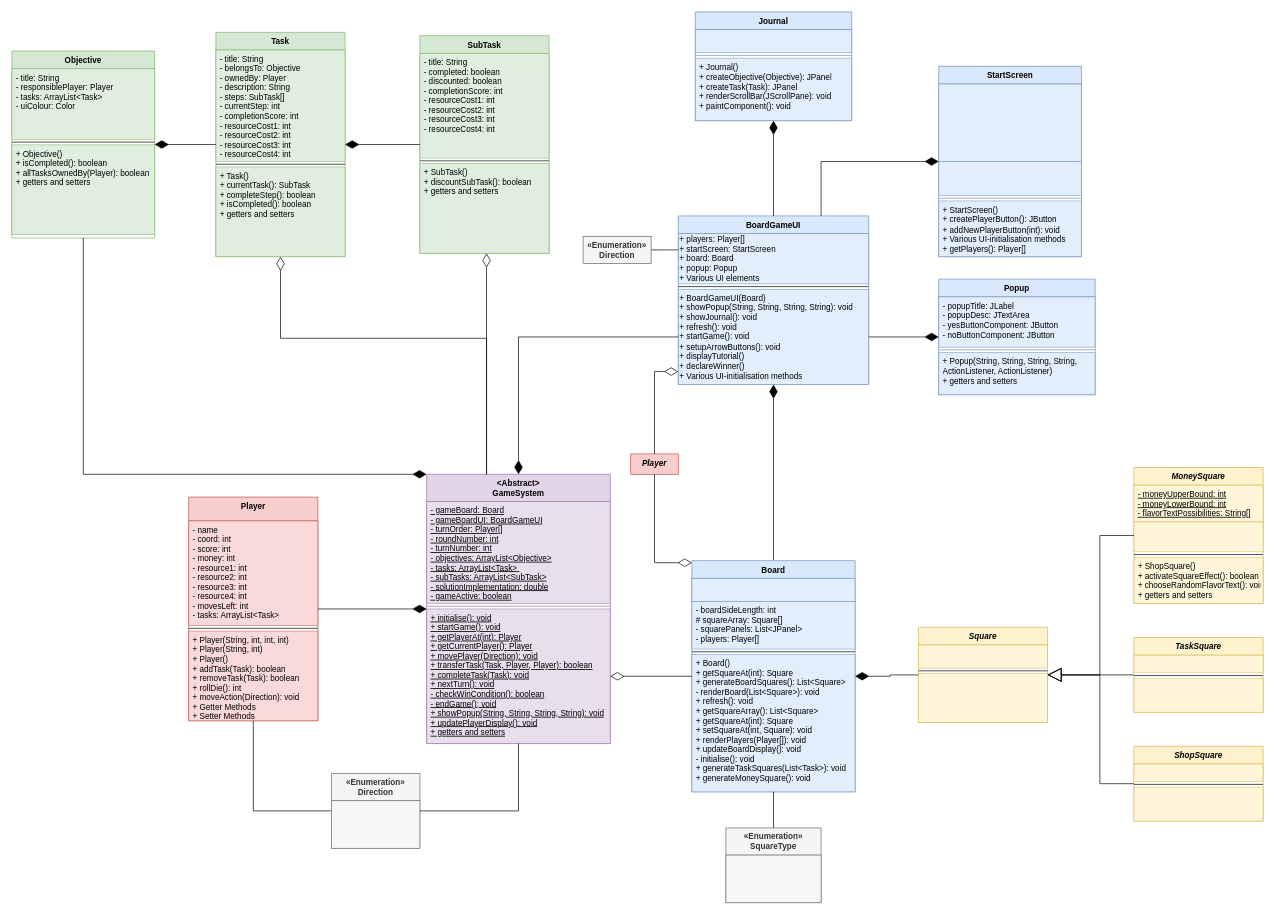
Some shapes in this 1276 by 917 pixel diagram are drawn without their labels. The centre of each missing label's shape, as x and y in pixels:
+ ShopSquare() + activateSquareEffect(): boolean + getters and setters: point 1198,803
+ Square() + activateSquareEffect(): boolean + getters and setters: point 983,697
+ TaskSquare(Task) + activateSquareEffect(): boolean + getters and setters: point 1198,695
- flavorText: String - moneyGiven: int: point 1198,536
- MAX_PLAYERS: int - STARTING_COORDS: int[]: point 1010,122
- playerBackgroundIcon: ImageIcon - addPlayerIcon: ImageIcon - numOfPlayers: int: point 1010,178
- squareColor: Color: point 983,656
- squareTypeRatios: int[]: point 773,589
- task: Task: point 1198,663
SQUARE MONEY_SQUARE TASK_SQUARE SHOP_SQUARE: point 773,878
UP DOWN LEFT RIGHT: point 375,824
